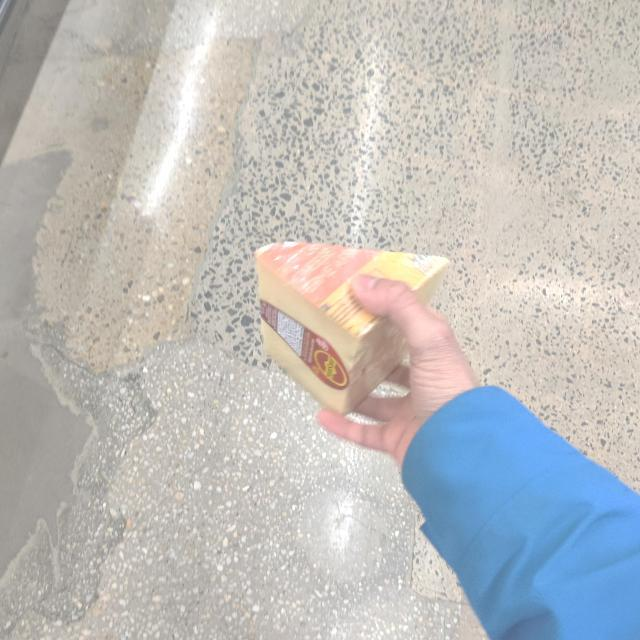Cheese: (253, 231, 457, 416)
